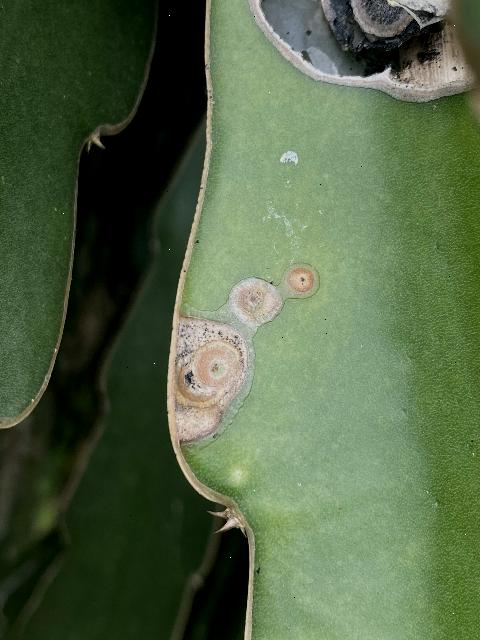stemcanker: (248, 1, 472, 107), (164, 312, 255, 449), (229, 273, 283, 333), (286, 264, 319, 298)
